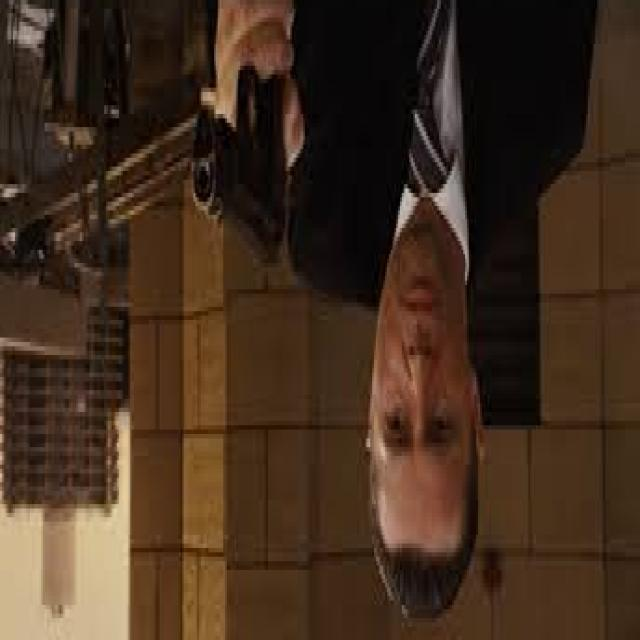gun: (189, 35, 298, 286)
